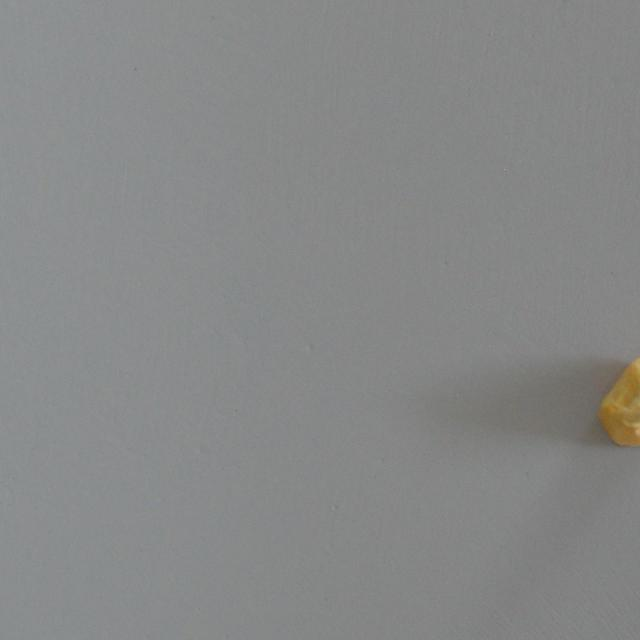entero: (588, 348, 640, 456)
